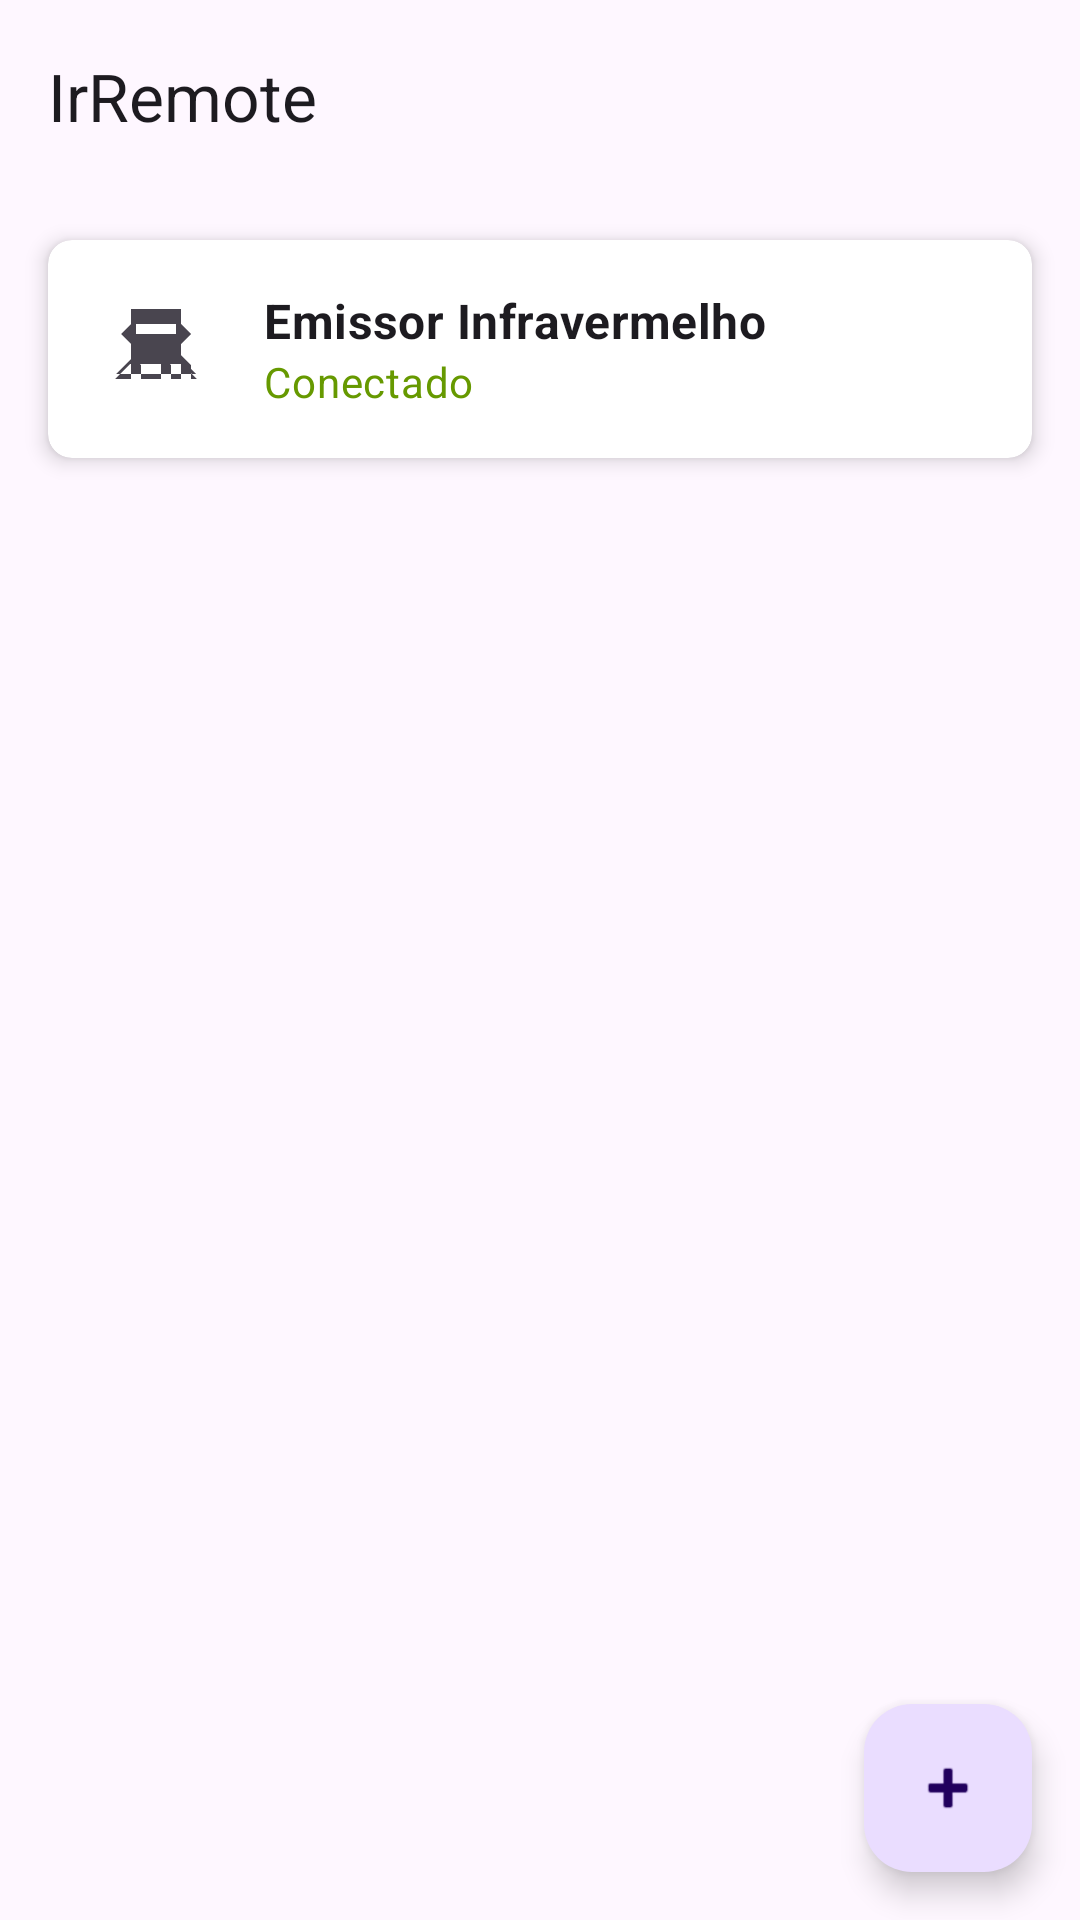

Where icons sit on this 1080x1920 app screen, as (x1, y1, x2, y2):
Adicionar Dispositivo: (864, 1704, 1032, 1872)
